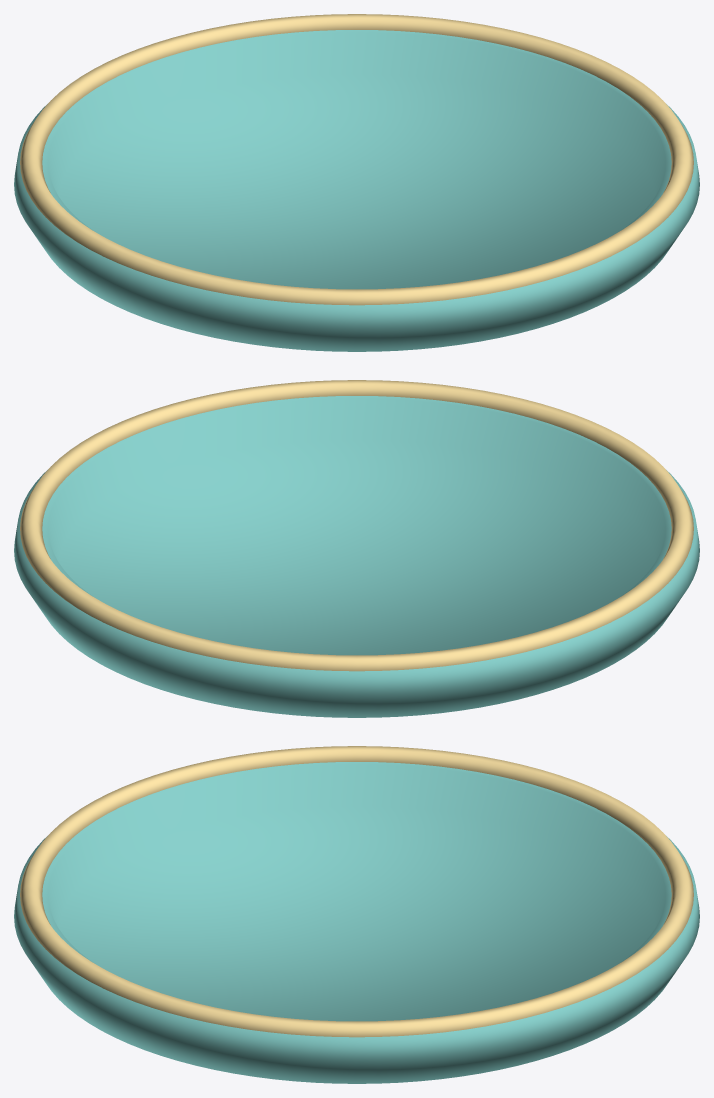
File: round_toys_r4.glb
3 views of the same model, one above another, from view 1: azimuth 30°, elevation 25°; view 2: azimuth 150°, elevation 25°; view 3: azimuth 270°, elevation 25° (orthographic).
Visible parts, largest first — view 1: round_toys_r4; view 2: round_toys_r4; view 3: round_toys_r4.
Part boxes in pixels (x1,y1,x2,y2): round_toys_r4: (14, 14, 699, 351); round_toys_r4: (14, 380, 699, 717); round_toys_r4: (14, 746, 699, 1083).
Bounding box in the file's own units: 4 × 0.3963 × 4.
